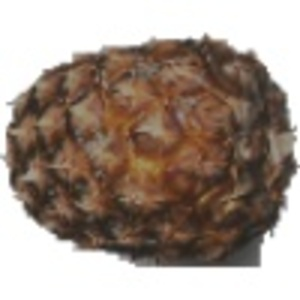abacaxi: (3, 34, 296, 252)
